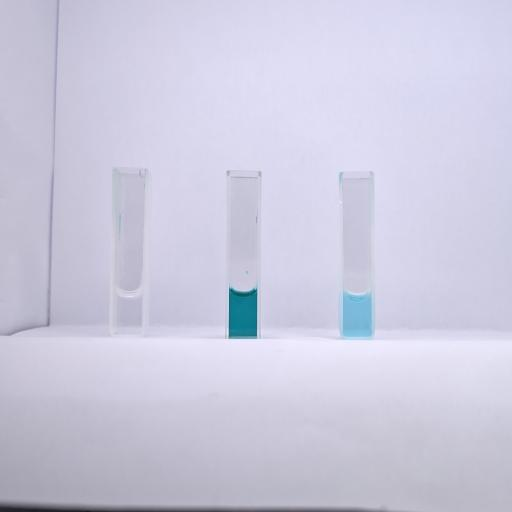cuvette: (107, 164, 150, 340), (336, 166, 378, 342), (223, 166, 264, 342)
liquid: (230, 290, 257, 336), (115, 288, 141, 333), (344, 292, 371, 335)
